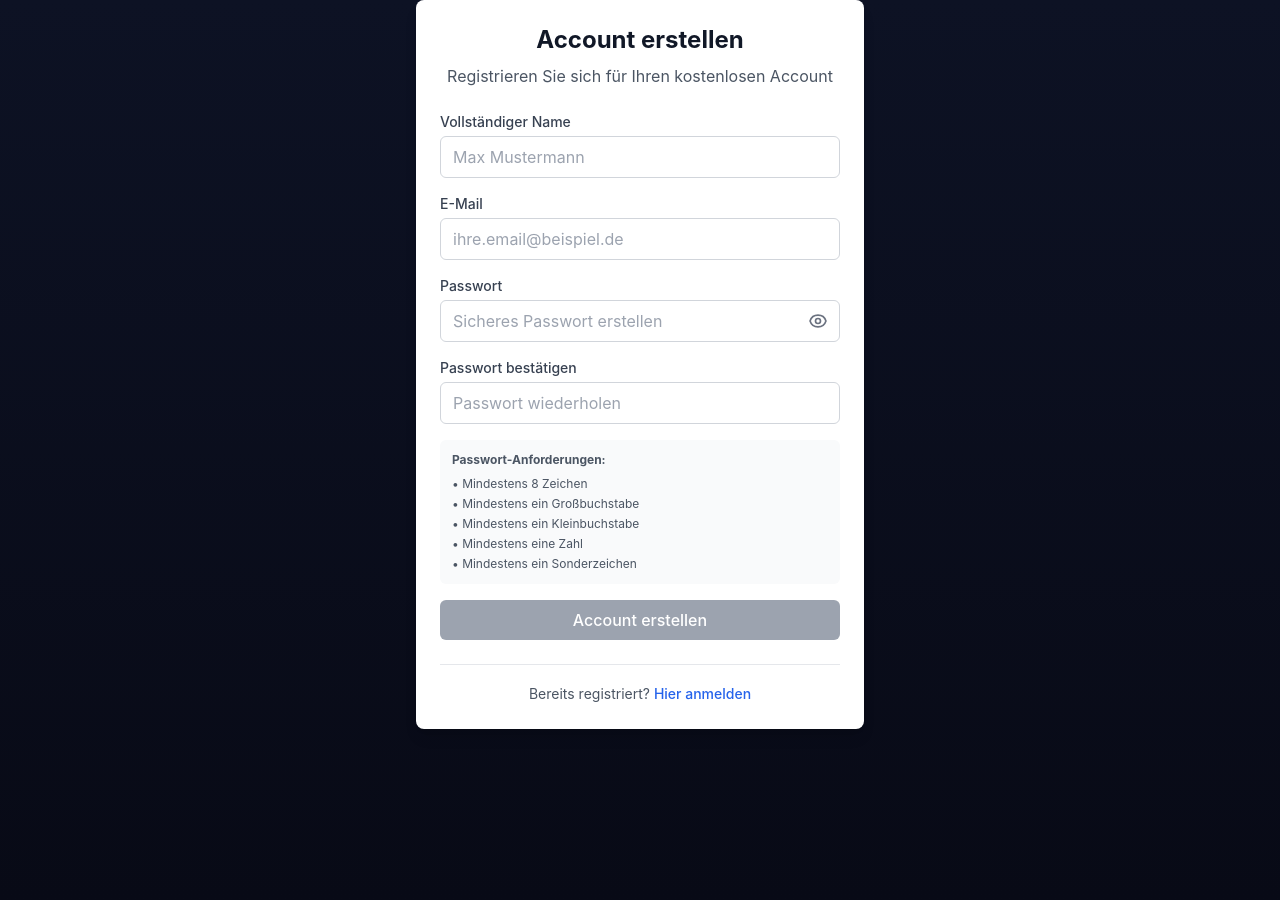
RegisterForm › validates password confirmation
This screenshot has width=1280, height=900.
Type "SecurePassword123!" into the password field labelled "Passwort". click: (640, 321)
box: [440,300,840,342]
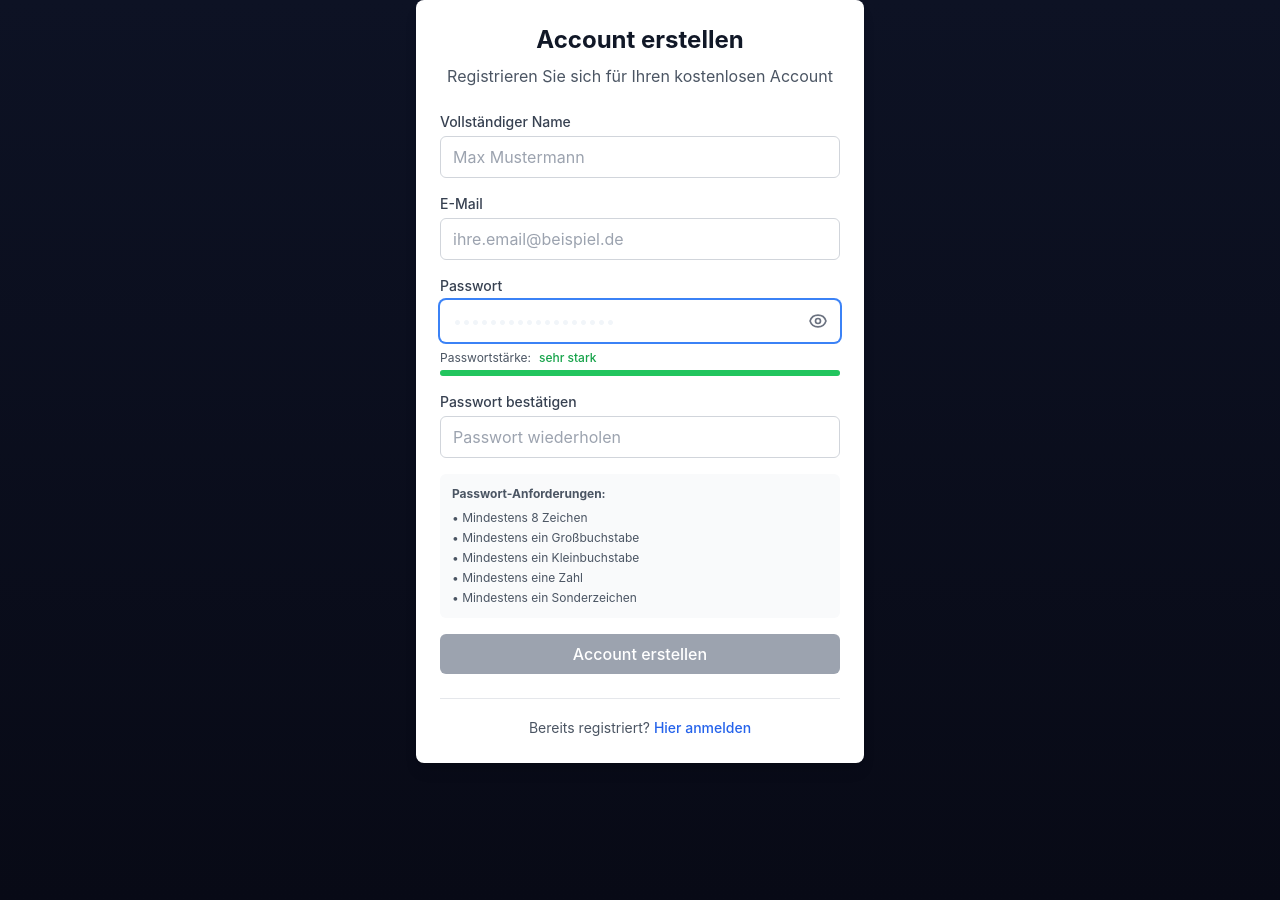
Type "DifferentPassword123!" into the password field labelled "Passwort bestätigen". click: (640, 437)
box: [440,416,840,458]
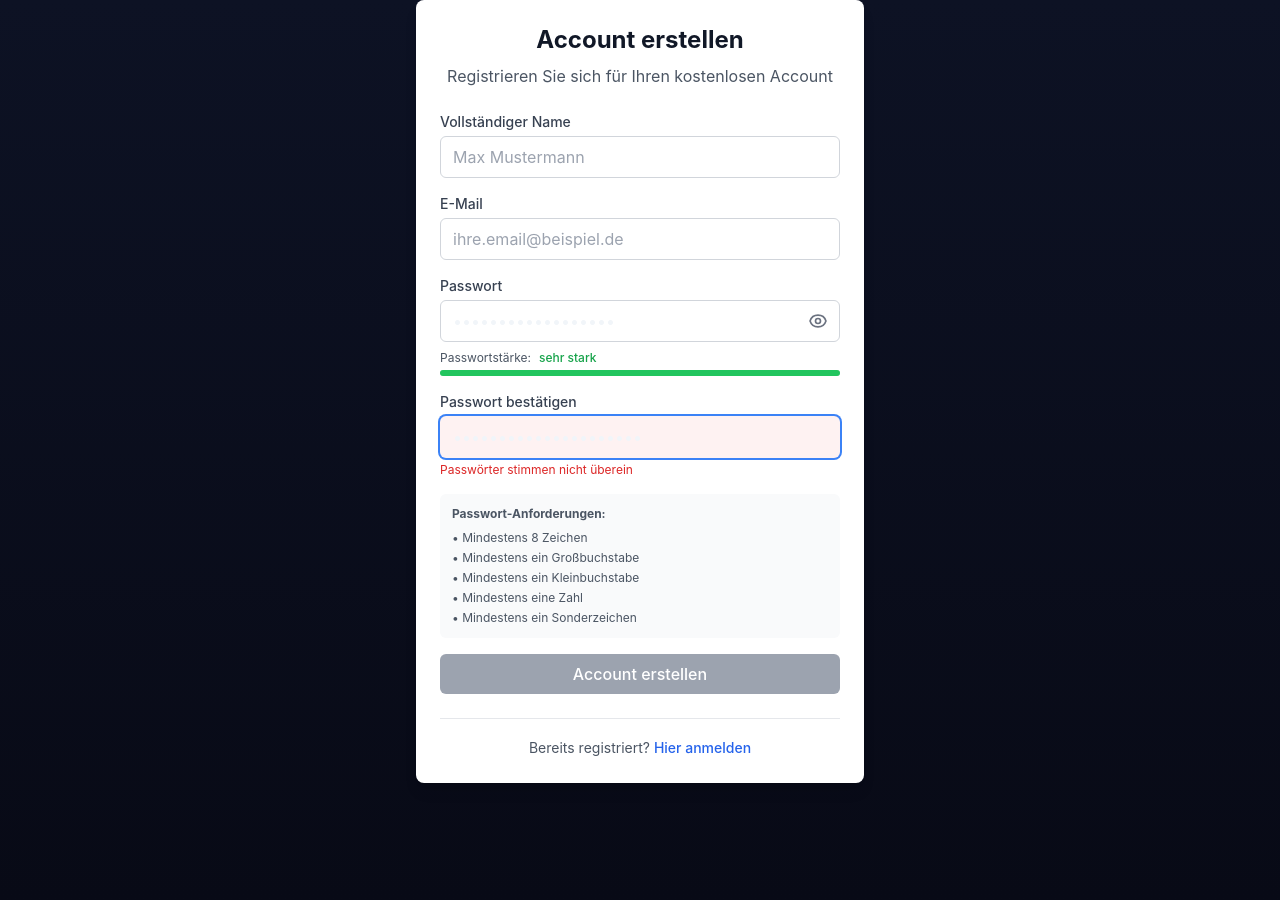
Expected: the text "Passwörter stimmen nicht überein" is shown, [440,462,633,477]
